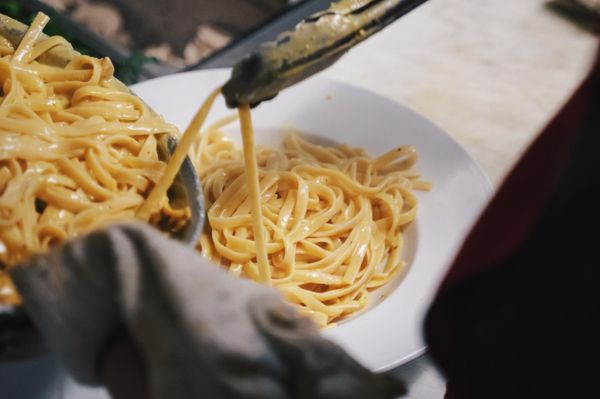curry: (9, 2, 597, 392)
